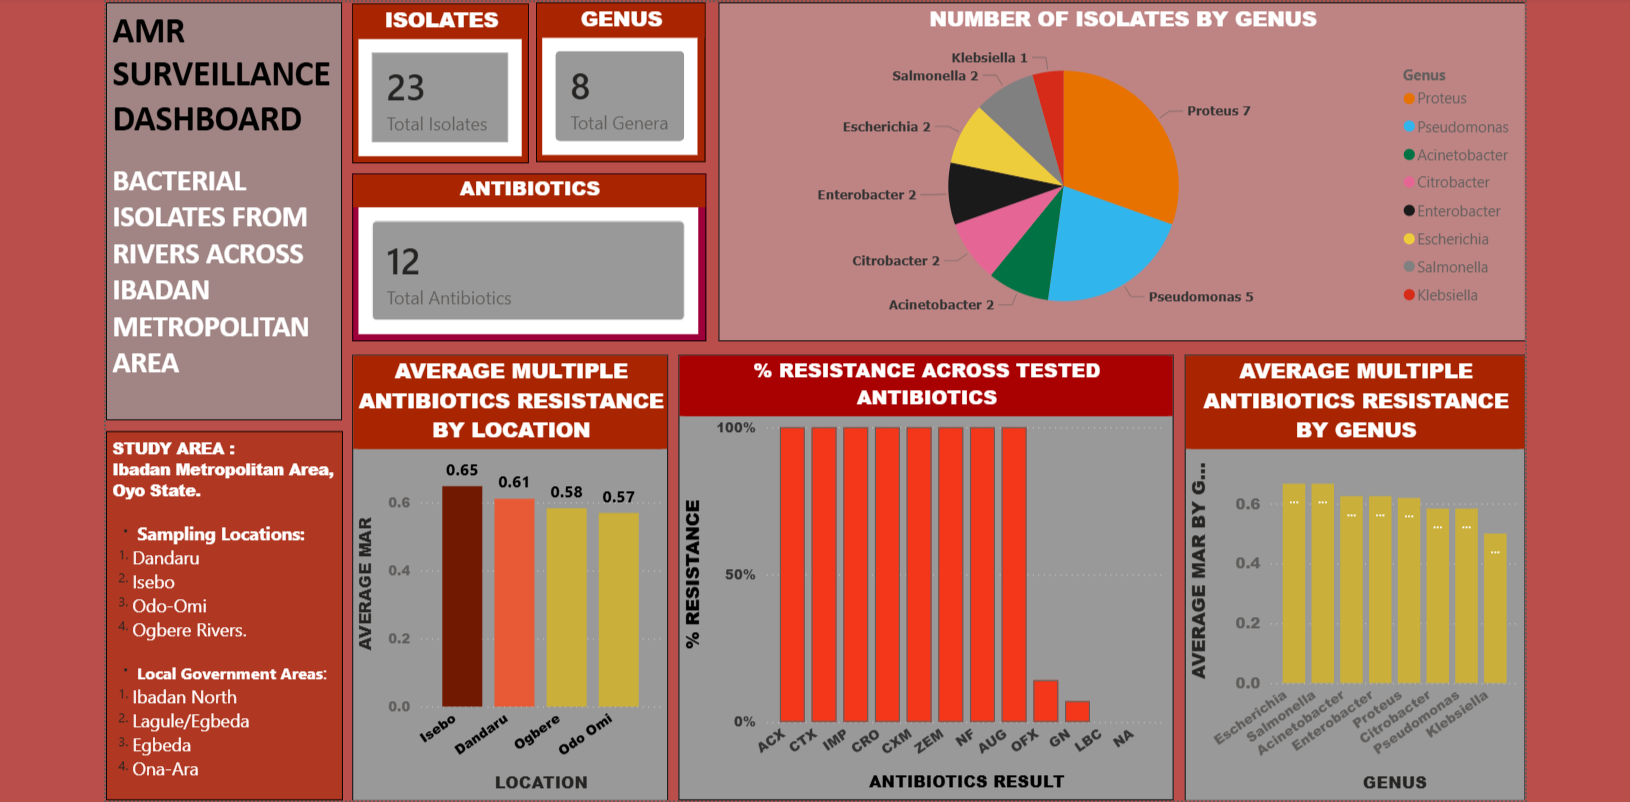

What the dashboard file says about the page in this screenshot:
{"tool":"powerbi","page":{"name":"Page 1","canvas":[1280,720],"ordinal":0},"visuals":[{"type":"textbox","box":[0,0,213,376.5],"z":0},{"type":"pieChart","title":"NUMBER OF ISOLATES BY GENUS","fields":{"Category":["Phenotypic Surveillance.Genus"],"Y":["Phenotypic Surveillance.Number of Isolates"]},"box":[552.3,0,728.1,305.4],"z":1000},{"type":"lineStackedColumnComboChart","title":"AVERAGE MULTIPLE ANTIBIOTICS RESISTANCE BY LOCATION","fields":{"Category":["Phenotypic Surveillance.Location"],"Y":["Phenotypic Surveillance.Average MAR By Location"]},"box":[222,317.8,285.2,402.4],"z":2000},{"type":"clusteredColumnChart","title":"AVERAGE MULTIPLE ANTIBIOTICS RESISTANCE BY GENUS","fields":{"Category":["Phenotypic Surveillance.Genus"],"Y":["Phenotypic Surveillance.Average MAR By Genus"]},"box":[972.8,317.8,307.4,402.1],"z":3000},{"type":"cardVisual","title":"ISOLATES","fields":{"Data":["Phenotypic Surveillance.Total Isolates"]},"box":[221.8,1.3,159.5,144],"z":5000},{"type":"cardVisual","title":"GENUS","fields":{"Data":["Phenotypic Surveillance.Total Genera"]},"box":[387.6,0,152.9,144.3],"z":6000},{"type":"clusteredColumnChart","title":"% RESISTANCE ACROSS TESTED ANTIBIOTICS","fields":{"Y":["Phenotypic Surveillance.% Resistant"],"Category":["Phenotypic Surveillance.Antibiotics"]},"box":[516.2,317.8,446.3,401.3],"z":8000},{"type":"textbox","box":[0,387,213.4,332.6],"z":9000},{"type":"cardVisual","title":"ANTIBIOTICS","fields":{"Data":["Phenotypic Surveillance.Total Antibiotics"]},"box":[222,154.4,319,151],"z":10000}]}

Visuals, with their boxes in screenshot pixels (x1, y1, x2, y2):
textbox: left=115, top=0, right=349, bottom=414
"NUMBER OF ISOLATES BY GENUS" pieChart: left=722, top=0, right=1522, bottom=336
"AVERAGE MULTIPLE ANTIBIOTICS RESISTANCE BY LOCATION" lineStackedColumnComboChart: left=359, top=349, right=672, bottom=791
"AVERAGE MULTIPLE ANTIBIOTICS RESISTANCE BY GENUS" clusteredColumnChart: left=1184, top=349, right=1521, bottom=791
"ISOLATES" cardVisual: left=358, top=1, right=534, bottom=160
"GENUS" cardVisual: left=541, top=0, right=709, bottom=159
"% RESISTANCE ACROSS TESTED ANTIBIOTICS" clusteredColumnChart: left=682, top=349, right=1172, bottom=790
textbox: left=115, top=425, right=349, bottom=791
"ANTIBIOTICS" cardVisual: left=359, top=170, right=709, bottom=336
